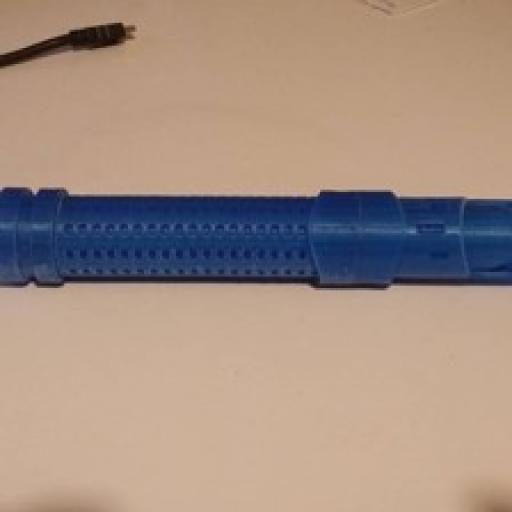lightsaber: (0, 190, 510, 281)
